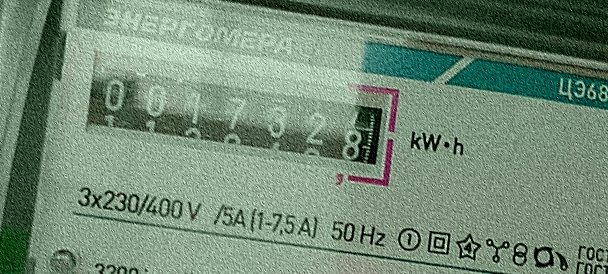0: (103, 73, 130, 112), (144, 80, 169, 116)
1: (186, 86, 206, 123)
2: (303, 107, 329, 146)
3: (264, 101, 291, 139)
7: (222, 91, 251, 131)
8: (340, 124, 364, 161)
screen: (73, 45, 406, 188)
